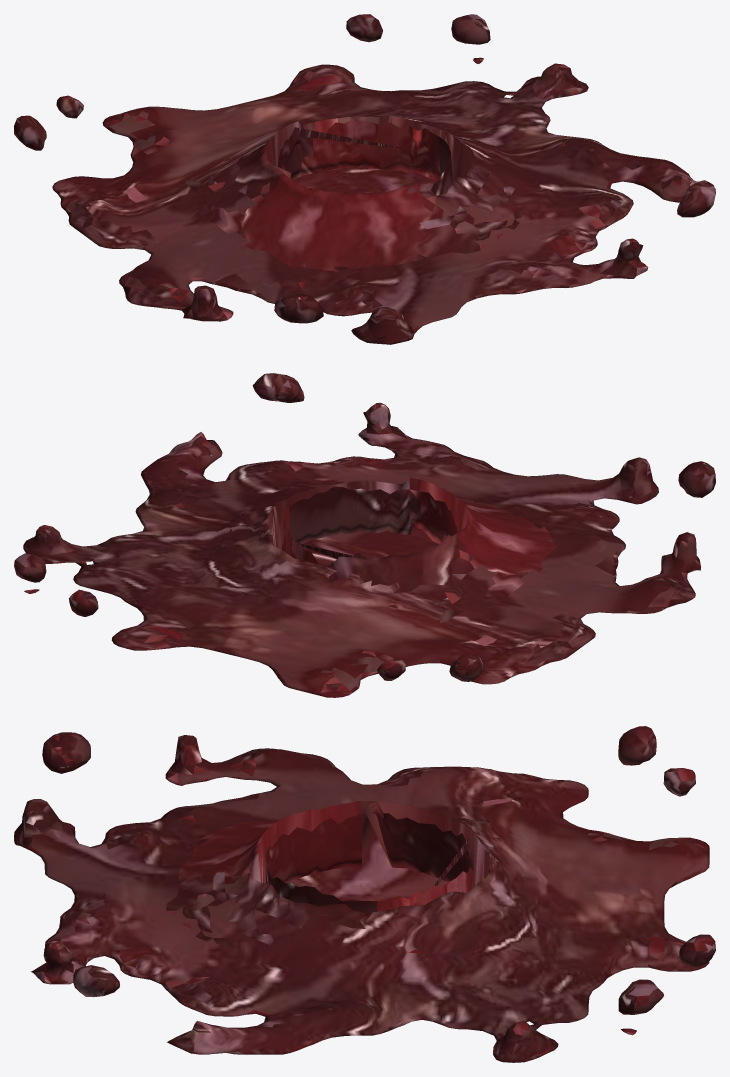
Rendered from Oil_red2.obj.
The picture shows the model from 3 angles, top to bottom: view 1: azimuth 30°, elevation 25°; view 2: azimuth 150°, elevation 25°; view 3: azimuth 270°, elevation 25°; orthographic projection. The views are drawn at different scales.
Parts seen in each view (by area): view 1: Fluid_Domain.002_Cube.002; view 2: Fluid_Domain.002_Cube.002; view 3: Fluid_Domain.002_Cube.002.
Part boxes in pixels (<box>): Fluid_Domain.002_Cube.002: <box>14,14,715,344</box>; Fluid_Domain.002_Cube.002: <box>14,373,715,697</box>; Fluid_Domain.002_Cube.002: <box>14,726,715,1062</box>.
Size of the model in its own units: 69.63 by 8.03 by 65.61.
